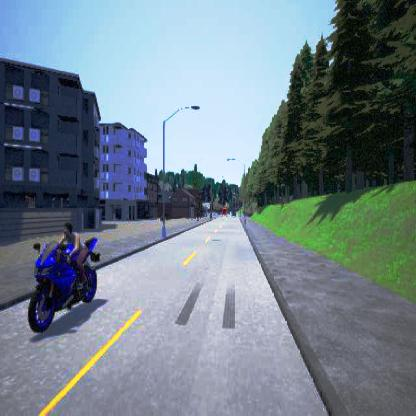motobike: (27, 219, 102, 332)
